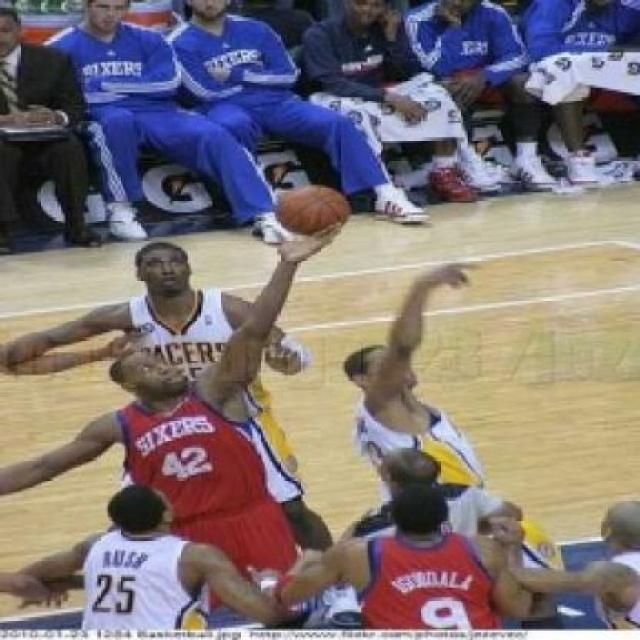basketball: (271, 178, 357, 246)
